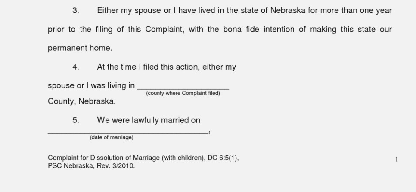textline: (46, 124, 212, 136), (136, 81, 230, 91)
